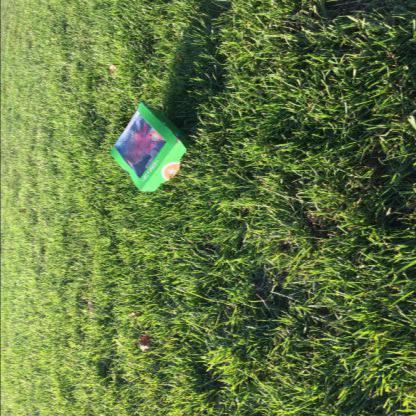Carton: (110, 101, 192, 191)
Plastic bag - wrapper: (114, 110, 166, 179)
